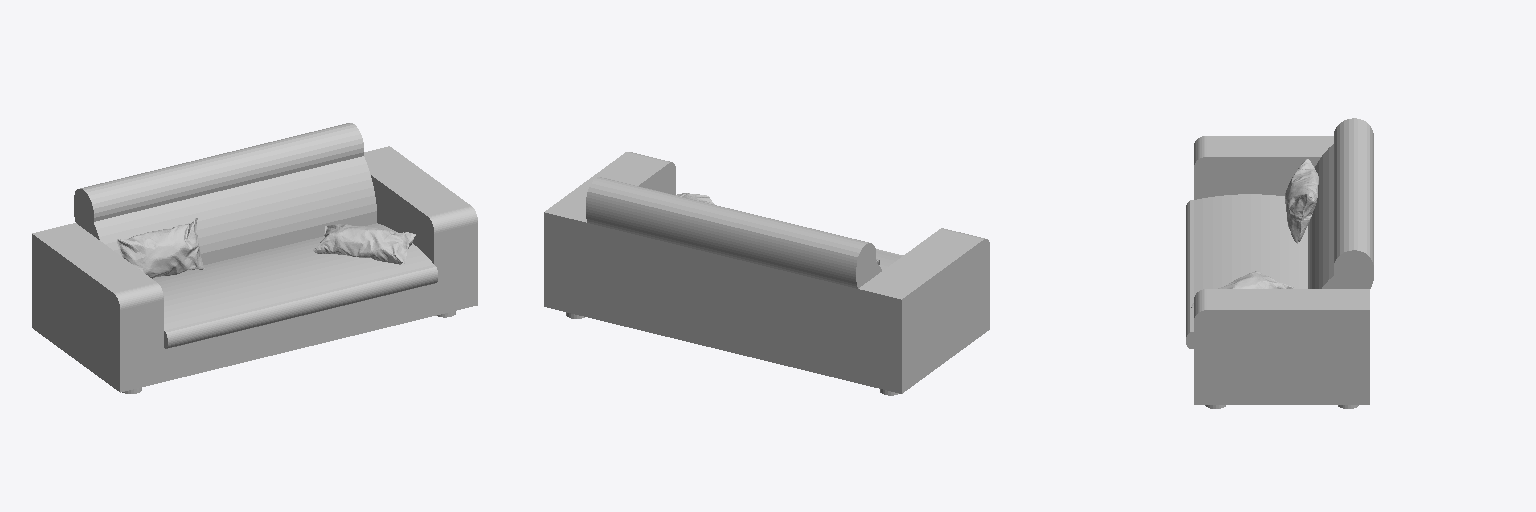
File: sofa_with_normals.obj
3 views of the same model, side by side, from view 1: azimuth 30°, elevation 25°; view 2: azimuth 150°, elevation 25°; view 3: azimuth 270°, elevation 25° (orthographic).
Parts seen in each view (by area): view 1: default; view 2: default; view 3: default.
Part boxes in pixels (left/top/right/bottom): default: left=32, top=123, right=477, bottom=393; default: left=544, top=152, right=989, bottom=395; default: left=1186, top=118, right=1373, bottom=408.
Bounding box in the file's own units: 3.08 × 1.18 × 1.41.